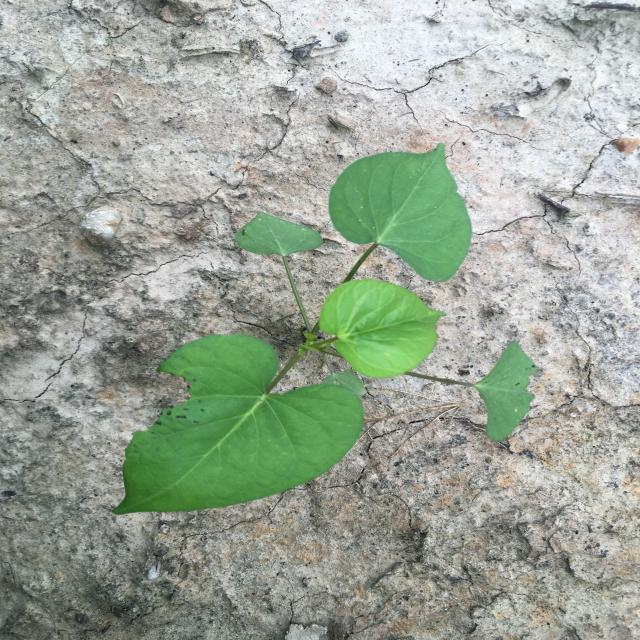MorningGlory: (112, 143, 540, 514)
